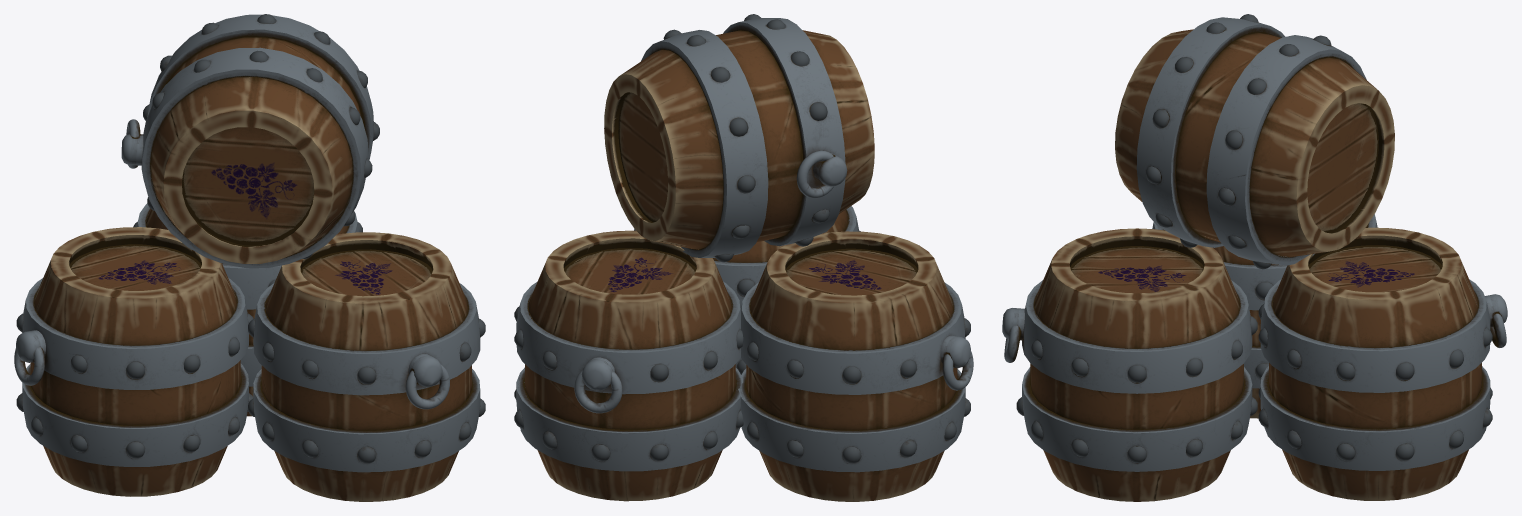
The picture shows the model from 3 angles, left to right: view 1: azimuth 30°, elevation 25°; view 2: azimuth 150°, elevation 25°; view 3: azimuth 270°, elevation 25°; orthographic projection.
Visible parts, largest first — view 1: barrel_low.001, barrel_low.002, barrel_low.003, barrel_low; view 2: barrel_low.001, barrel_low.003, barrel_low, barrel_low.002; view 3: barrel_low.002, barrel_low.003, barrel_low, barrel_low.001.
Boxes of the visible parts, x1,y1,x2,y2 form: barrel_low.001: [14, 227, 253, 496]; barrel_low.002: [248, 232, 485, 501]; barrel_low.003: [121, 14, 379, 268]; barrel_low: [133, 203, 362, 416]; barrel_low.001: [738, 231, 973, 501]; barrel_low.003: [604, 14, 874, 262]; barrel_low: [514, 230, 743, 501]; barrel_low.002: [634, 206, 860, 374]; barrel_low.002: [1002, 228, 1257, 501]; barrel_low.003: [1115, 14, 1394, 269]; barrel_low: [1258, 227, 1507, 500]; barrel_low.001: [1152, 214, 1377, 418].
Size of the model in its own units: 578 by 576 by 646.
